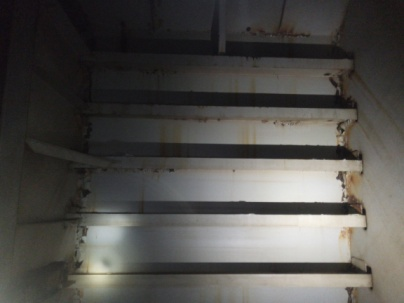corrosion: (236, 19, 316, 41), (64, 222, 92, 270), (58, 169, 94, 205), (254, 114, 324, 128), (334, 171, 361, 206), (326, 120, 358, 148), (320, 68, 346, 95), (338, 227, 361, 247)
